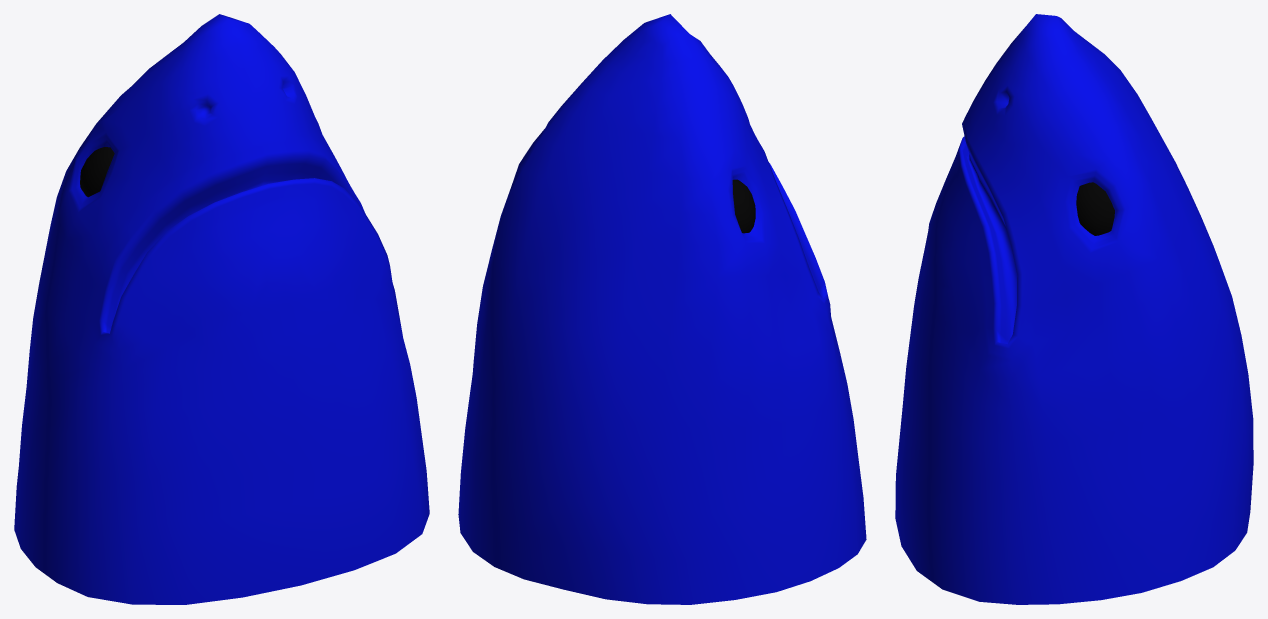
The model's file is Will_Shark.fbx.
The picture shows the model from 3 angles, left to right: view 1: azimuth 30°, elevation 25°; view 2: azimuth 150°, elevation 25°; view 3: azimuth 270°, elevation 25°; orthographic projection.
Parts seen in each view (by area): view 1: SharkHead, SharkEye; view 2: SharkHead, SharkEye; view 3: SharkHead, SharkEye.
Part boxes in pixels (bbox=[...]): SharkHead: bbox=[14, 14, 429, 604]; SharkEye: bbox=[80, 147, 114, 197]; SharkHead: bbox=[458, 14, 866, 604]; SharkEye: bbox=[732, 179, 755, 233]; SharkHead: bbox=[895, 14, 1253, 604]; SharkEye: bbox=[1076, 182, 1114, 235].
Bounding box in the file's own units: 303 × 408 × 261.
